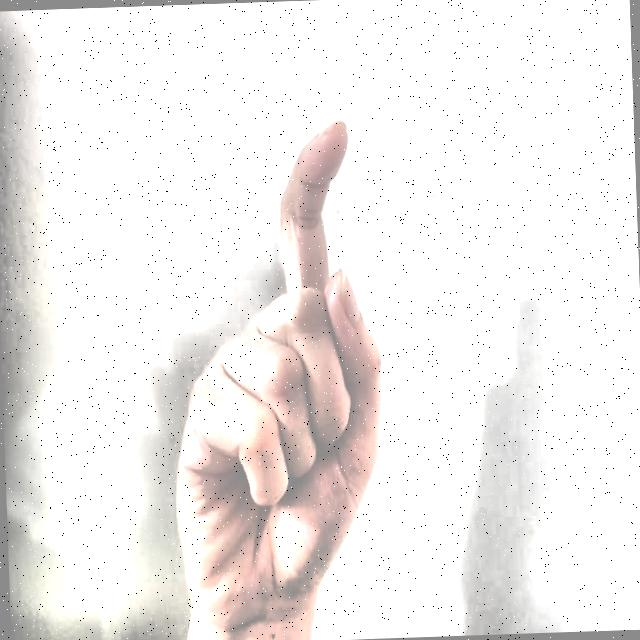E: (126, 98, 404, 619)
